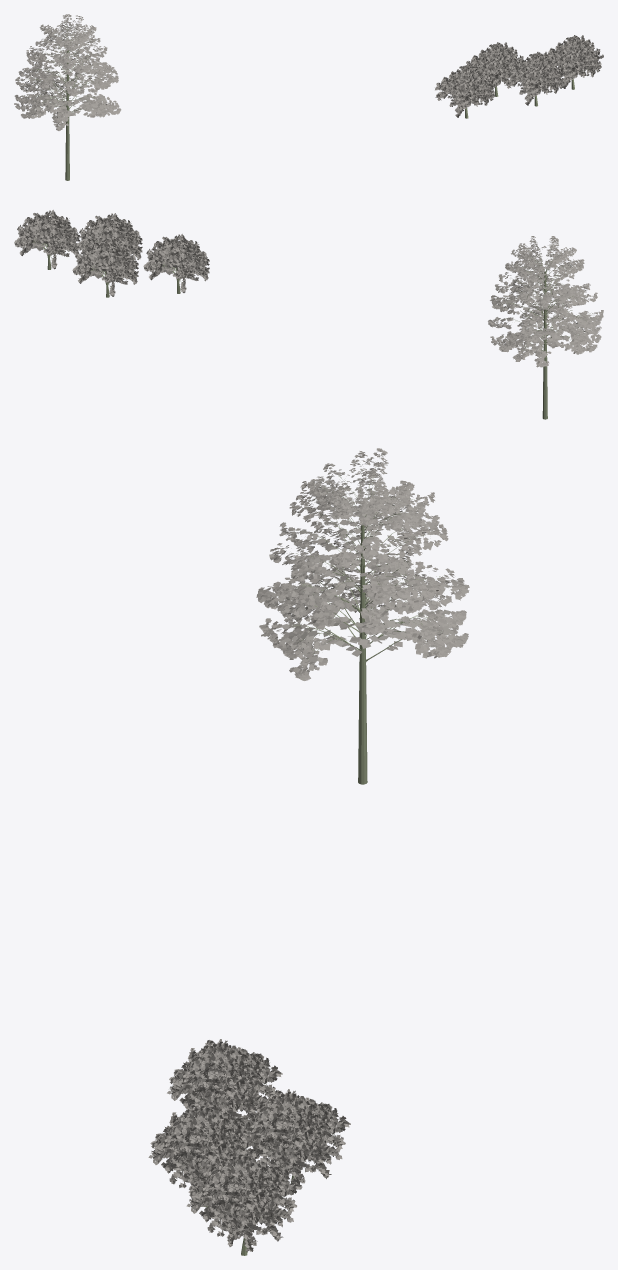
3 renders of one model, top to bottom at view 1: azimuth 30°, elevation 25°; view 2: azimuth 150°, elevation 25°; view 3: azimuth 270°, elevation 25°, orthographic. The views are drawn at different scales.
Visible parts, largest first — view 1: 1sn$f2cRjEefNlZbD_u1pp, 1sn$f2cRjEefNlZbD_u1oK, 1sn$f2cRjEefNlZbD_u10u, 1sn$f2cRjEefNlZbD_u1p1, 1sn$f2cRjEefNlZbD_u1ow; view 2: 1sn$f2cRjEefNlZbD_u1pp, 1sn$f2cRjEefNlZbD_u1ow, 1sn$f2cRjEefNlZbD_u1oK, 1sn$f2cRjEefNlZbD_u1p1, 1sn$f2cRjEefNlZbD_u10u; view 3: 1sn$f2cRjEefNlZbD_u1pp, 1sn$f2cRjEefNlZbD_u1p1, 1sn$f2cRjEefNlZbD_u1ow, 1sn$f2cRjEefNlZbD_u1oK, 1sn$f2cRjEefNlZbD_u10u.
Boxes of the visible parts, x1,y1,x2,y2 form: 1sn$f2cRjEefNlZbD_u1pp: [14, 14, 121, 180]; 1sn$f2cRjEefNlZbD_u1oK: [435, 63, 497, 118]; 1sn$f2cRjEefNlZbD_u10u: [504, 52, 566, 106]; 1sn$f2cRjEefNlZbD_u1p1: [543, 35, 603, 89]; 1sn$f2cRjEefNlZbD_u1ow: [465, 42, 523, 96]; 1sn$f2cRjEefNlZbD_u1pp: [488, 236, 603, 419]; 1sn$f2cRjEefNlZbD_u1ow: [72, 237, 138, 297]; 1sn$f2cRjEefNlZbD_u1oK: [143, 234, 209, 293]; 1sn$f2cRjEefNlZbD_u1p1: [14, 210, 80, 269]; 1sn$f2cRjEefNlZbD_u10u: [76, 213, 142, 259]; 1sn$f2cRjEefNlZbD_u1pp: [256, 448, 469, 784]; 1sn$f2cRjEefNlZbD_u1p1: [186, 1151, 302, 1255]; 1sn$f2cRjEefNlZbD_u1ow: [242, 1089, 350, 1188]; 1sn$f2cRjEefNlZbD_u1oK: [167, 1039, 282, 1120]; 1sn$f2cRjEefNlZbD_u10u: [148, 1103, 260, 1207].
Bounding box in the file's own units: 33.09 × 9.24 × 8.35.
